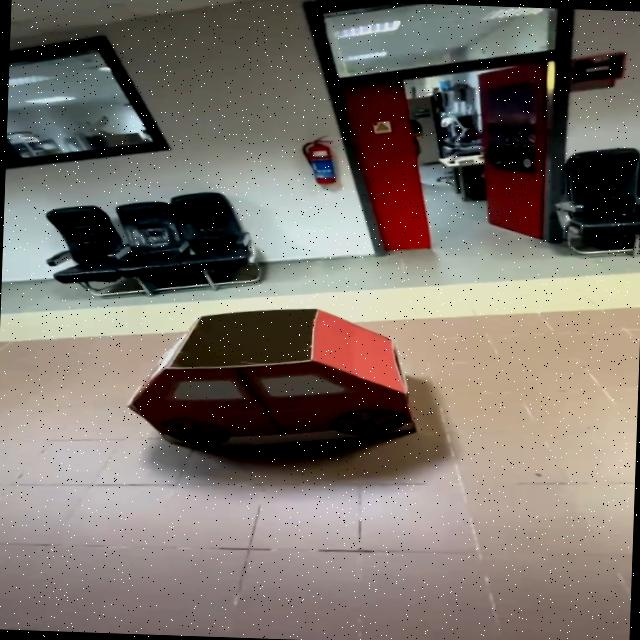red_car: (83, 290, 437, 490)
